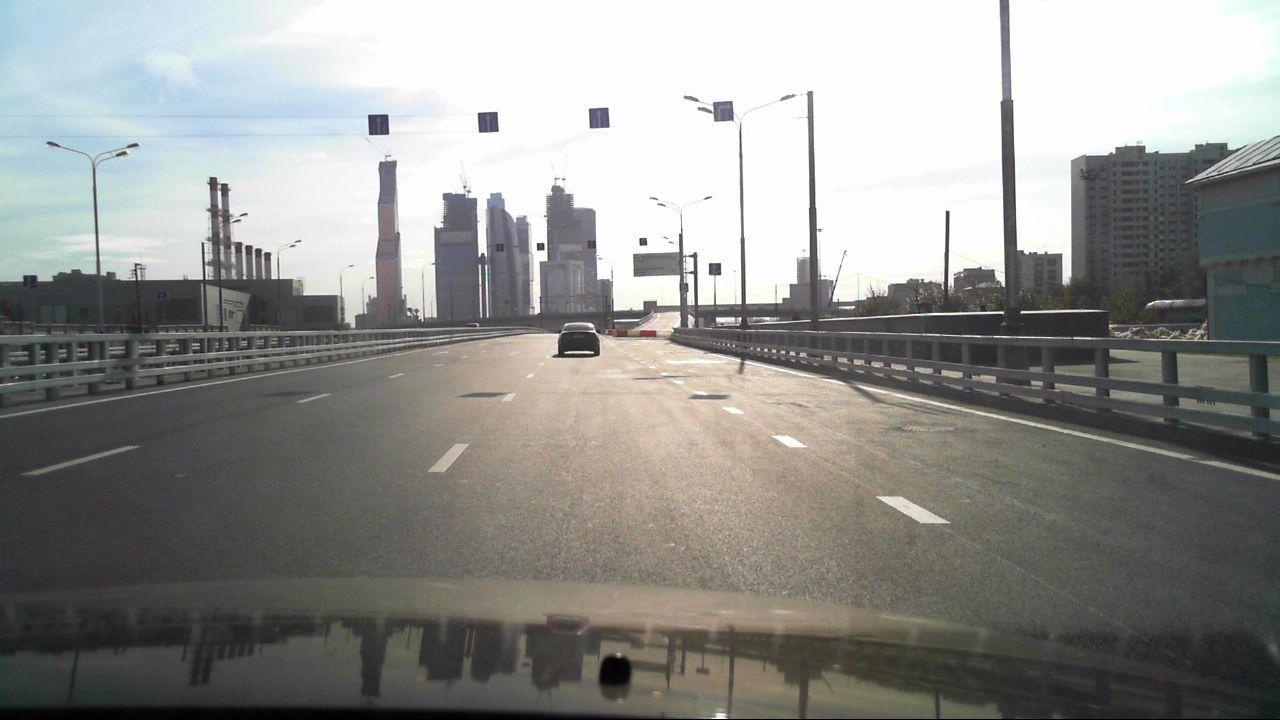5_15_2: (711, 99, 735, 123), (477, 111, 500, 134), (588, 107, 611, 130), (367, 113, 388, 135), (496, 243, 504, 252), (537, 243, 545, 252), (588, 240, 596, 249), (640, 238, 647, 246)
6_6: (709, 262, 721, 276)
